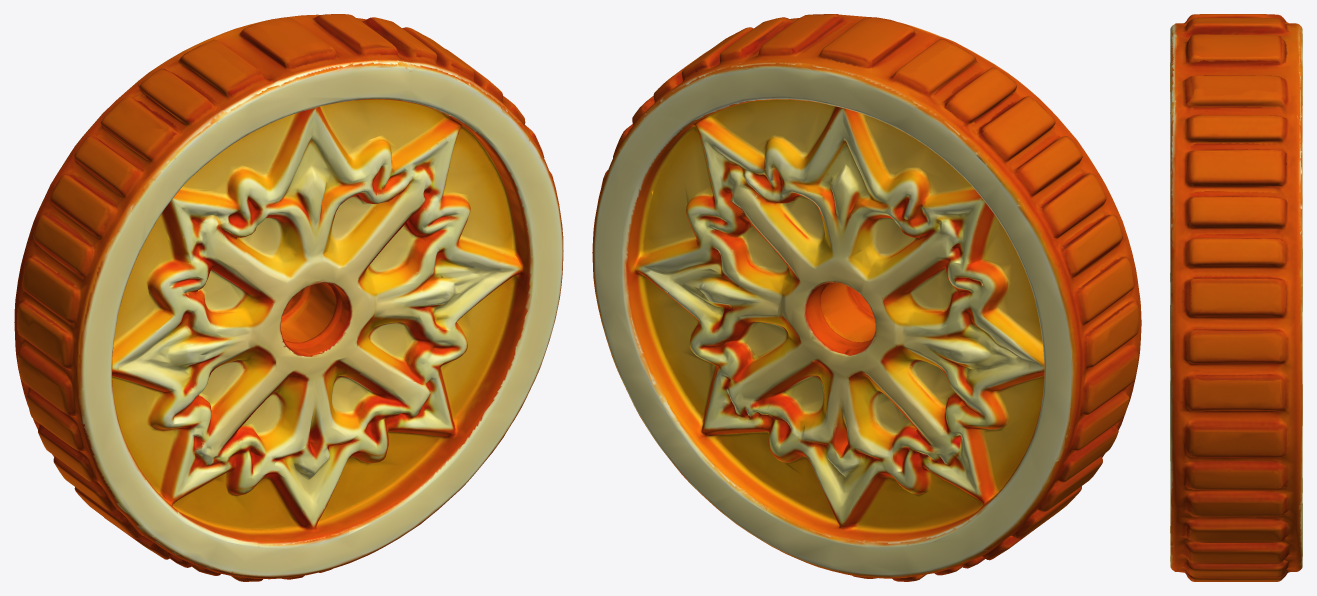
File: goodcase0304_163.glb
The picture shows the model from 3 angles, left to right: view 1: azimuth 30°, elevation 25°; view 2: azimuth 150°, elevation 25°; view 3: azimuth 270°, elevation 25°; orthographic projection.
Parts seen in each view (by area): view 1: object.001; view 2: object.001; view 3: object.001.
Part boxes in pixels (x1,y1,x2,y2): object.001: (14,14,563,581); object.001: (592,14,1141,581); object.001: (1170,14,1302,581).
Bounding box in the file's own units: 1.12 × 1.12 × 0.2625.
1 material, 1 textured.
